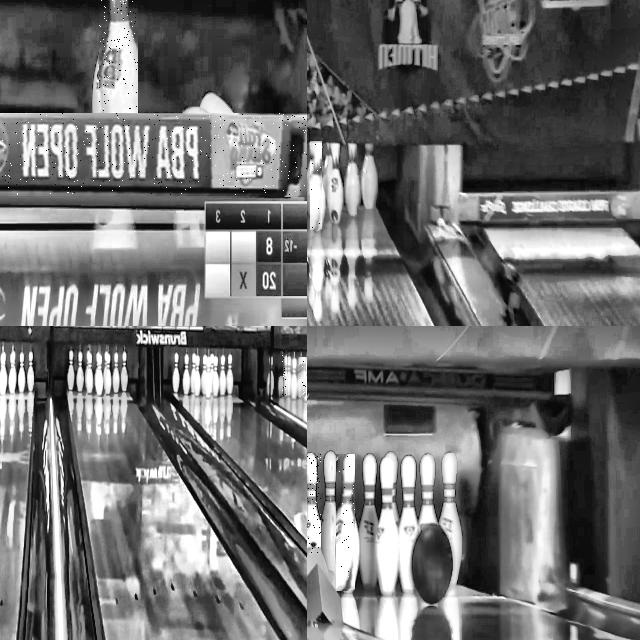bowling-ball: (412, 523, 453, 603)
bowling-pins: (99, 0, 138, 111), (439, 452, 462, 591), (376, 456, 398, 595), (398, 456, 418, 592), (359, 454, 378, 589), (320, 451, 338, 588), (339, 455, 354, 588), (418, 454, 437, 529), (326, 141, 343, 222), (307, 454, 321, 549), (344, 141, 360, 216), (386, 451, 400, 526), (361, 143, 377, 208), (311, 142, 321, 229), (321, 142, 332, 201), (307, 141, 314, 213), (182, 353, 191, 394), (172, 352, 180, 393), (104, 354, 112, 395), (219, 354, 226, 396), (96, 354, 103, 396), (226, 354, 233, 395), (194, 354, 201, 395), (113, 352, 120, 393), (86, 353, 93, 394), (27, 351, 34, 392), (0, 354, 7, 395), (213, 356, 220, 396), (121, 351, 128, 391), (77, 351, 84, 391), (18, 353, 25, 392), (205, 357, 211, 398), (9, 353, 15, 394), (291, 359, 297, 399), (68, 350, 74, 390), (201, 355, 207, 394), (286, 357, 292, 395), (191, 353, 196, 393), (85, 350, 90, 390), (103, 351, 108, 388), (95, 352, 100, 389), (303, 358, 307, 401), (282, 355, 286, 397), (210, 354, 214, 393), (302, 358, 305, 395)
sweep board: (0, 115, 307, 195)
